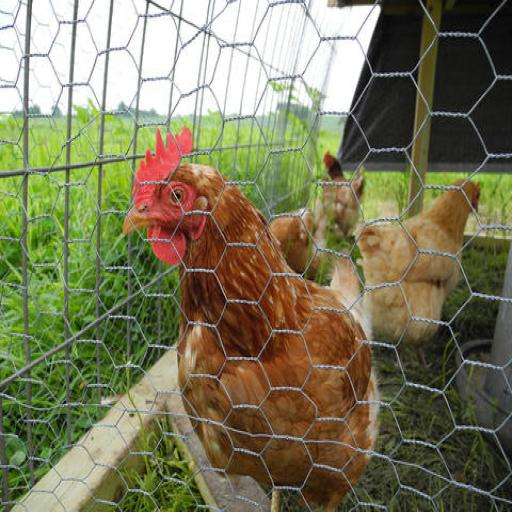healthy: (106, 121, 236, 274)
